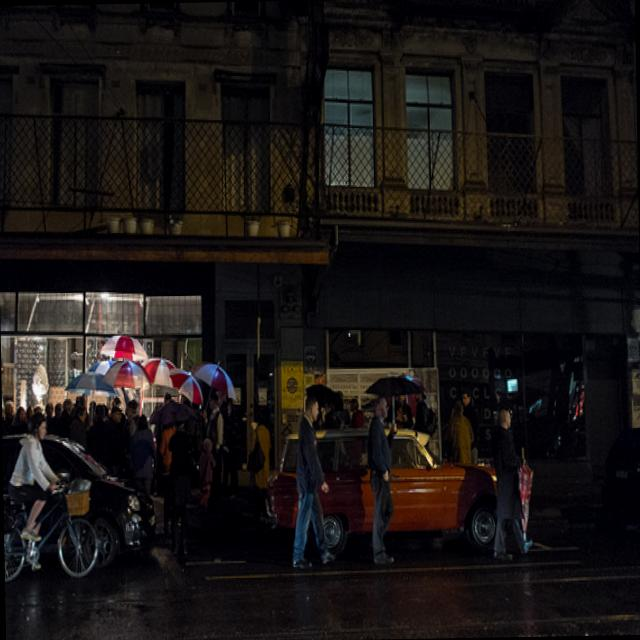Vehicle: (267, 424, 504, 550), (2, 430, 156, 573)
